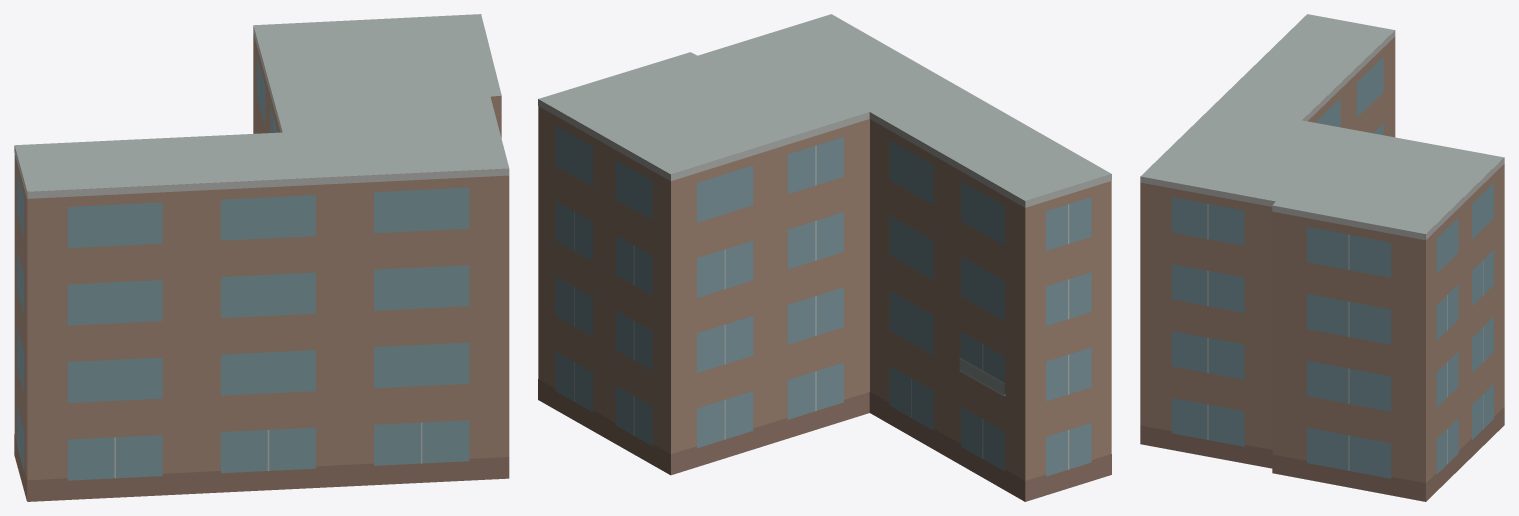
Rendered from survey-upis-32967268.glb.
3 views of the same model, side by side, from view 1: azimuth 30°, elevation 25°; view 2: azimuth 150°, elevation 25°; view 3: azimuth 270°, elevation 25° (orthographic). The views are drawn at different scales.
Visible parts, largest first — view 1: survey-upis-32967268.tmp; view 2: survey-upis-32967268.tmp; view 3: survey-upis-32967268.tmp.
Boxes of the visible parts, x1=… form: survey-upis-32967268.tmp: x1=14, y1=14, x2=509, y2=501; survey-upis-32967268.tmp: x1=538, y1=14, x2=1111, y2=501; survey-upis-32967268.tmp: x1=1140, y1=14, x2=1504, y2=501.
Size of the model in its own units: 18.88 by 10.7 by 13.2.
